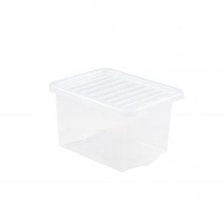plastic_box: (41, 57, 193, 175)
